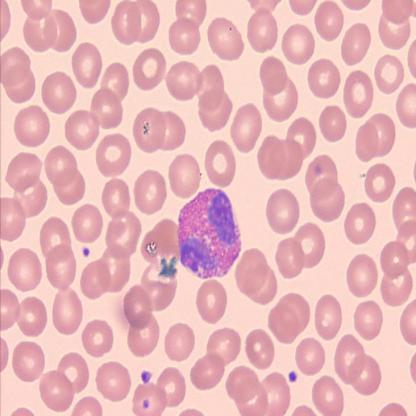Eosinophil: (178, 187, 241, 280)
